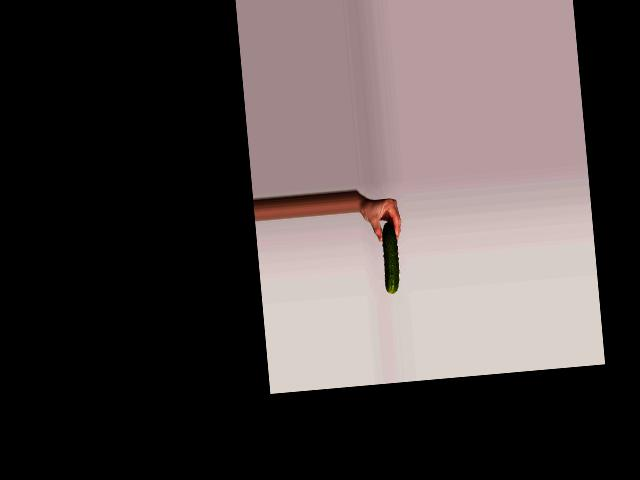cucumber: (380, 221, 401, 293)
